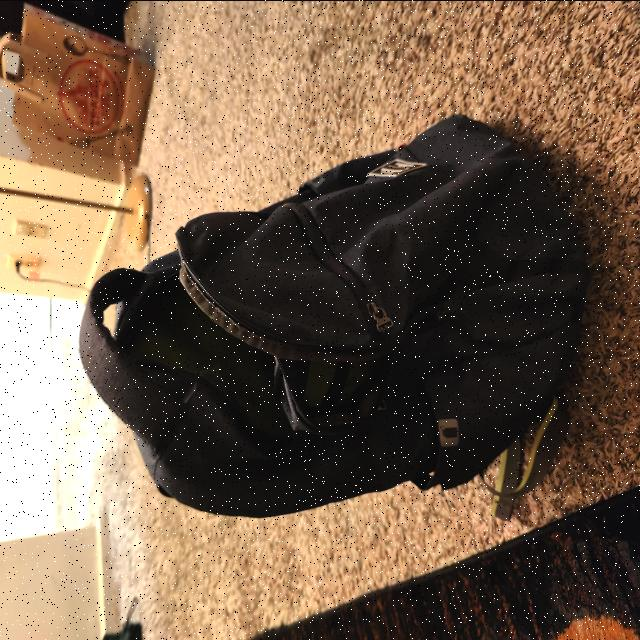bag: (87, 122, 577, 500)
